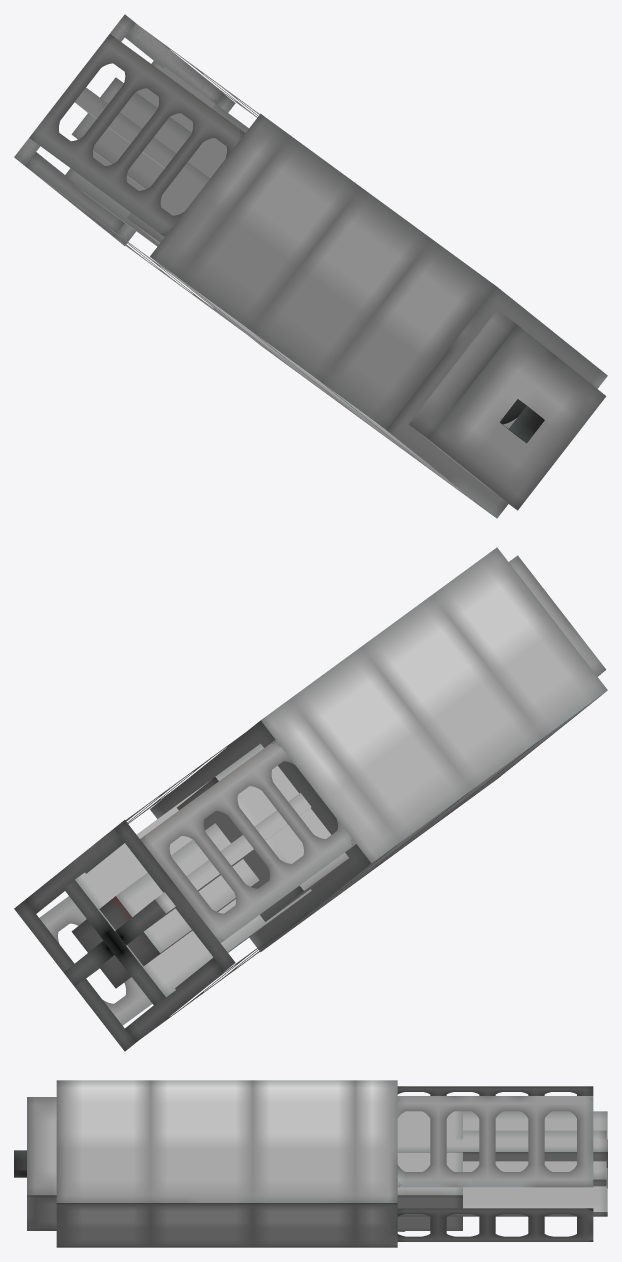
Rendered from fab500.obj.
3 renders of one model, top to bottom at view 1: azimuth 30°, elevation 25°; view 2: azimuth 150°, elevation 25°; view 3: azimuth 270°, elevation 25°, orthographic. The views are drawn at different scales.
Visible parts, largest first — view 1: fab500; view 2: fab500; view 3: fab500.
Boxes of the visible parts, x1=… form: fab500: x1=14, y1=14, x2=607, y2=518; fab500: x1=14, y1=547, x2=607, y2=1051; fab500: x1=14, y1=1080, x2=607, y2=1247.
Bounding box in the file's own units: 0.6894 × 0.6894 × 2.22.
